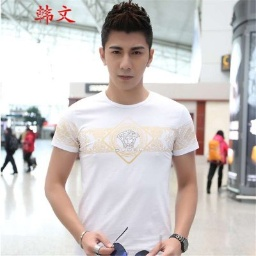face: (100, 1, 155, 91)
